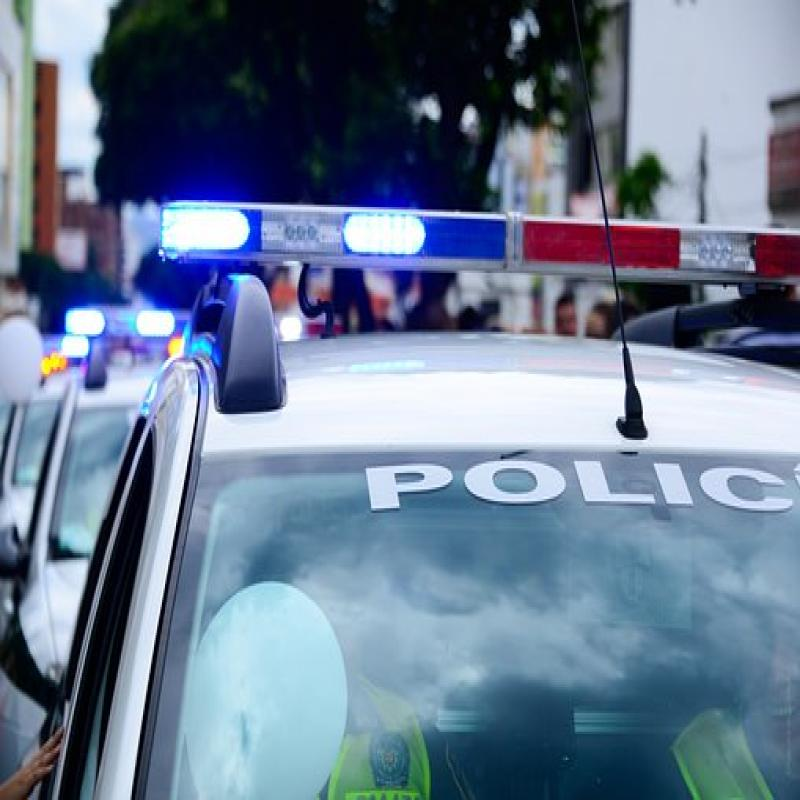AmbulanceSiren: (141, 148, 800, 386)
